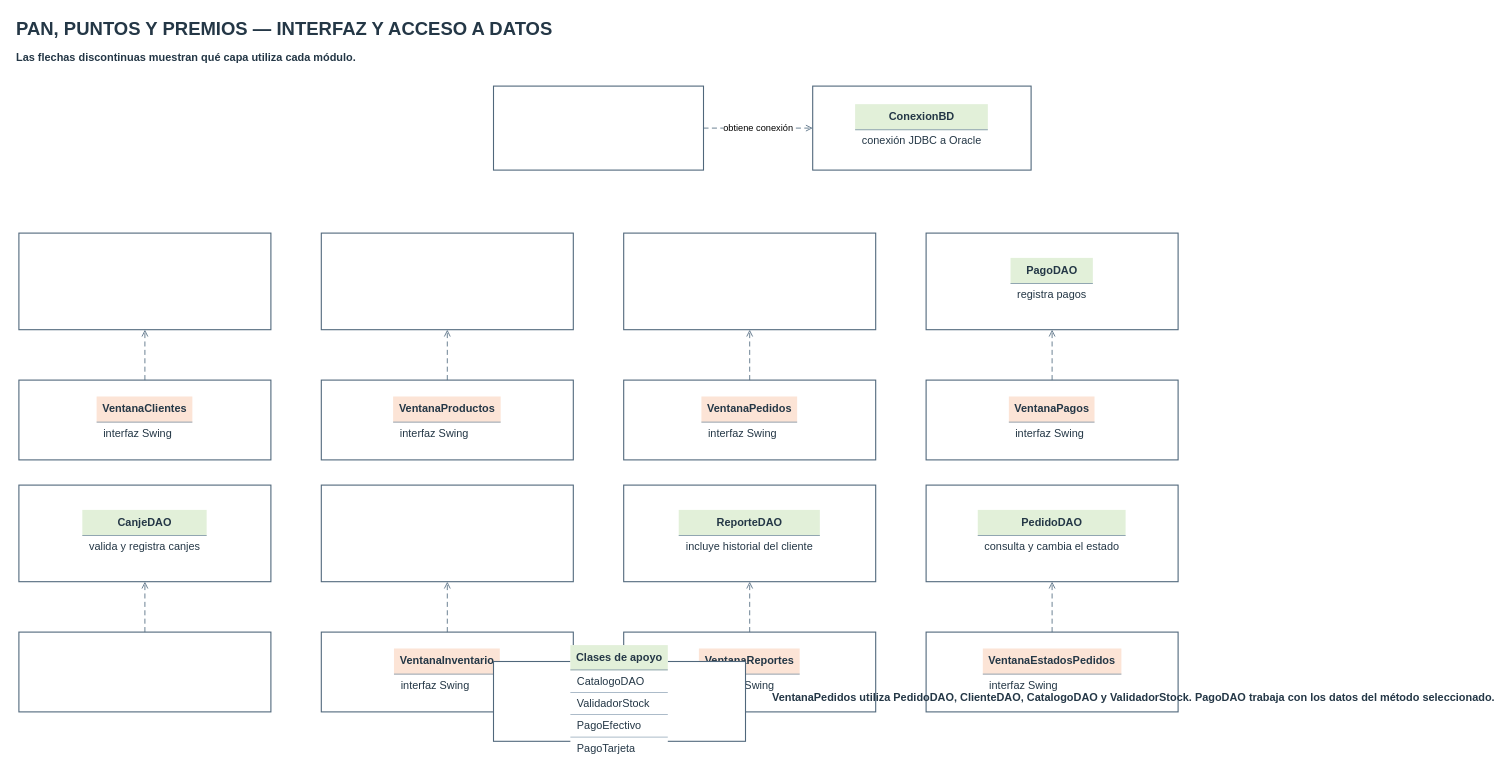
Some shapes in this 1509 by 773 pixel diagram are drawn without their labels. Here are the shapes that lost their labels. From the top down, the centre of each, then its label:
At (x=598, y=127): "Principal abre módulos Swing".
At (x=144, y=281): "ClienteDAO consultar y mantener clientes".
At (x=446, y=281): "ProductoDAO consultar y mantener productos".
At (x=749, y=281): "PedidoDAO también consulta clientes y catálogo".
At (x=446, y=533): "InventarioDAO consulta y repone existencias".
At (x=144, y=671): "VentanaCanjes interfaz Swing".
